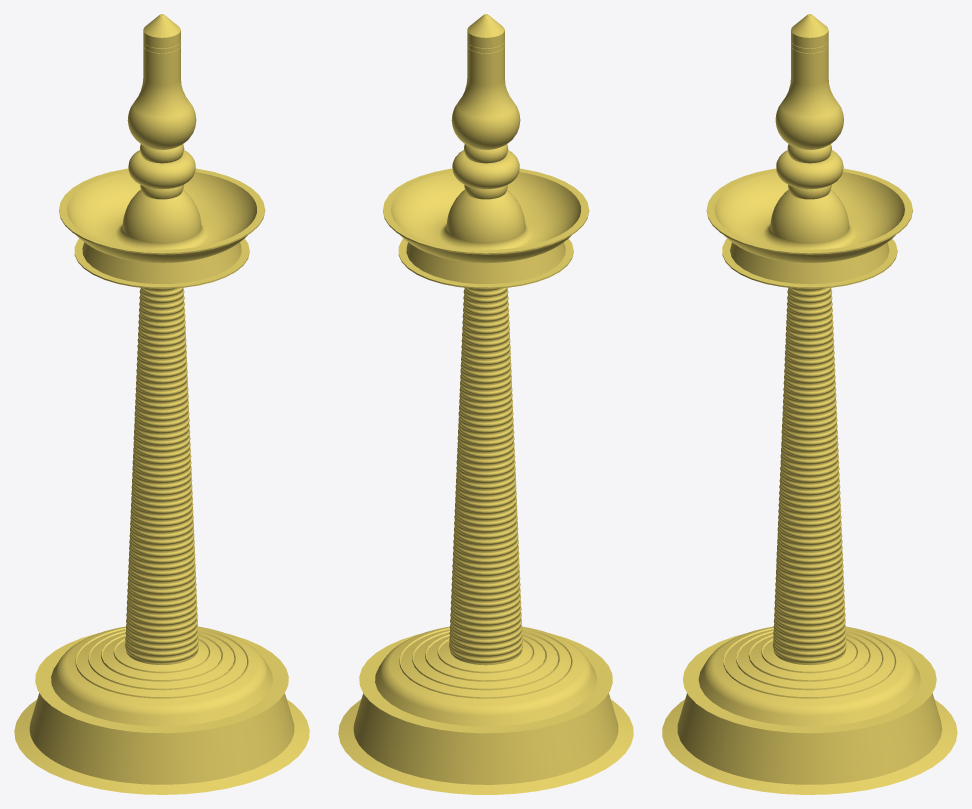
The picture shows the model from 3 angles, left to right: view 1: azimuth 30°, elevation 25°; view 2: azimuth 150°, elevation 25°; view 3: azimuth 270°, elevation 25°; orthographic projection.
Visible parts, largest first — view 1: 150cm model oil lamp; view 2: 150cm model oil lamp; view 3: 150cm model oil lamp.
Boxes of the visible parts, x1=… form: 150cm model oil lamp: x1=14, y1=14, x2=309, y2=794; 150cm model oil lamp: x1=338, y1=14, x2=633, y2=794; 150cm model oil lamp: x1=662, y1=14, x2=957, y2=794.
Bounding box in the file's own units: 0.5596 × 1.5 × 0.5593.
